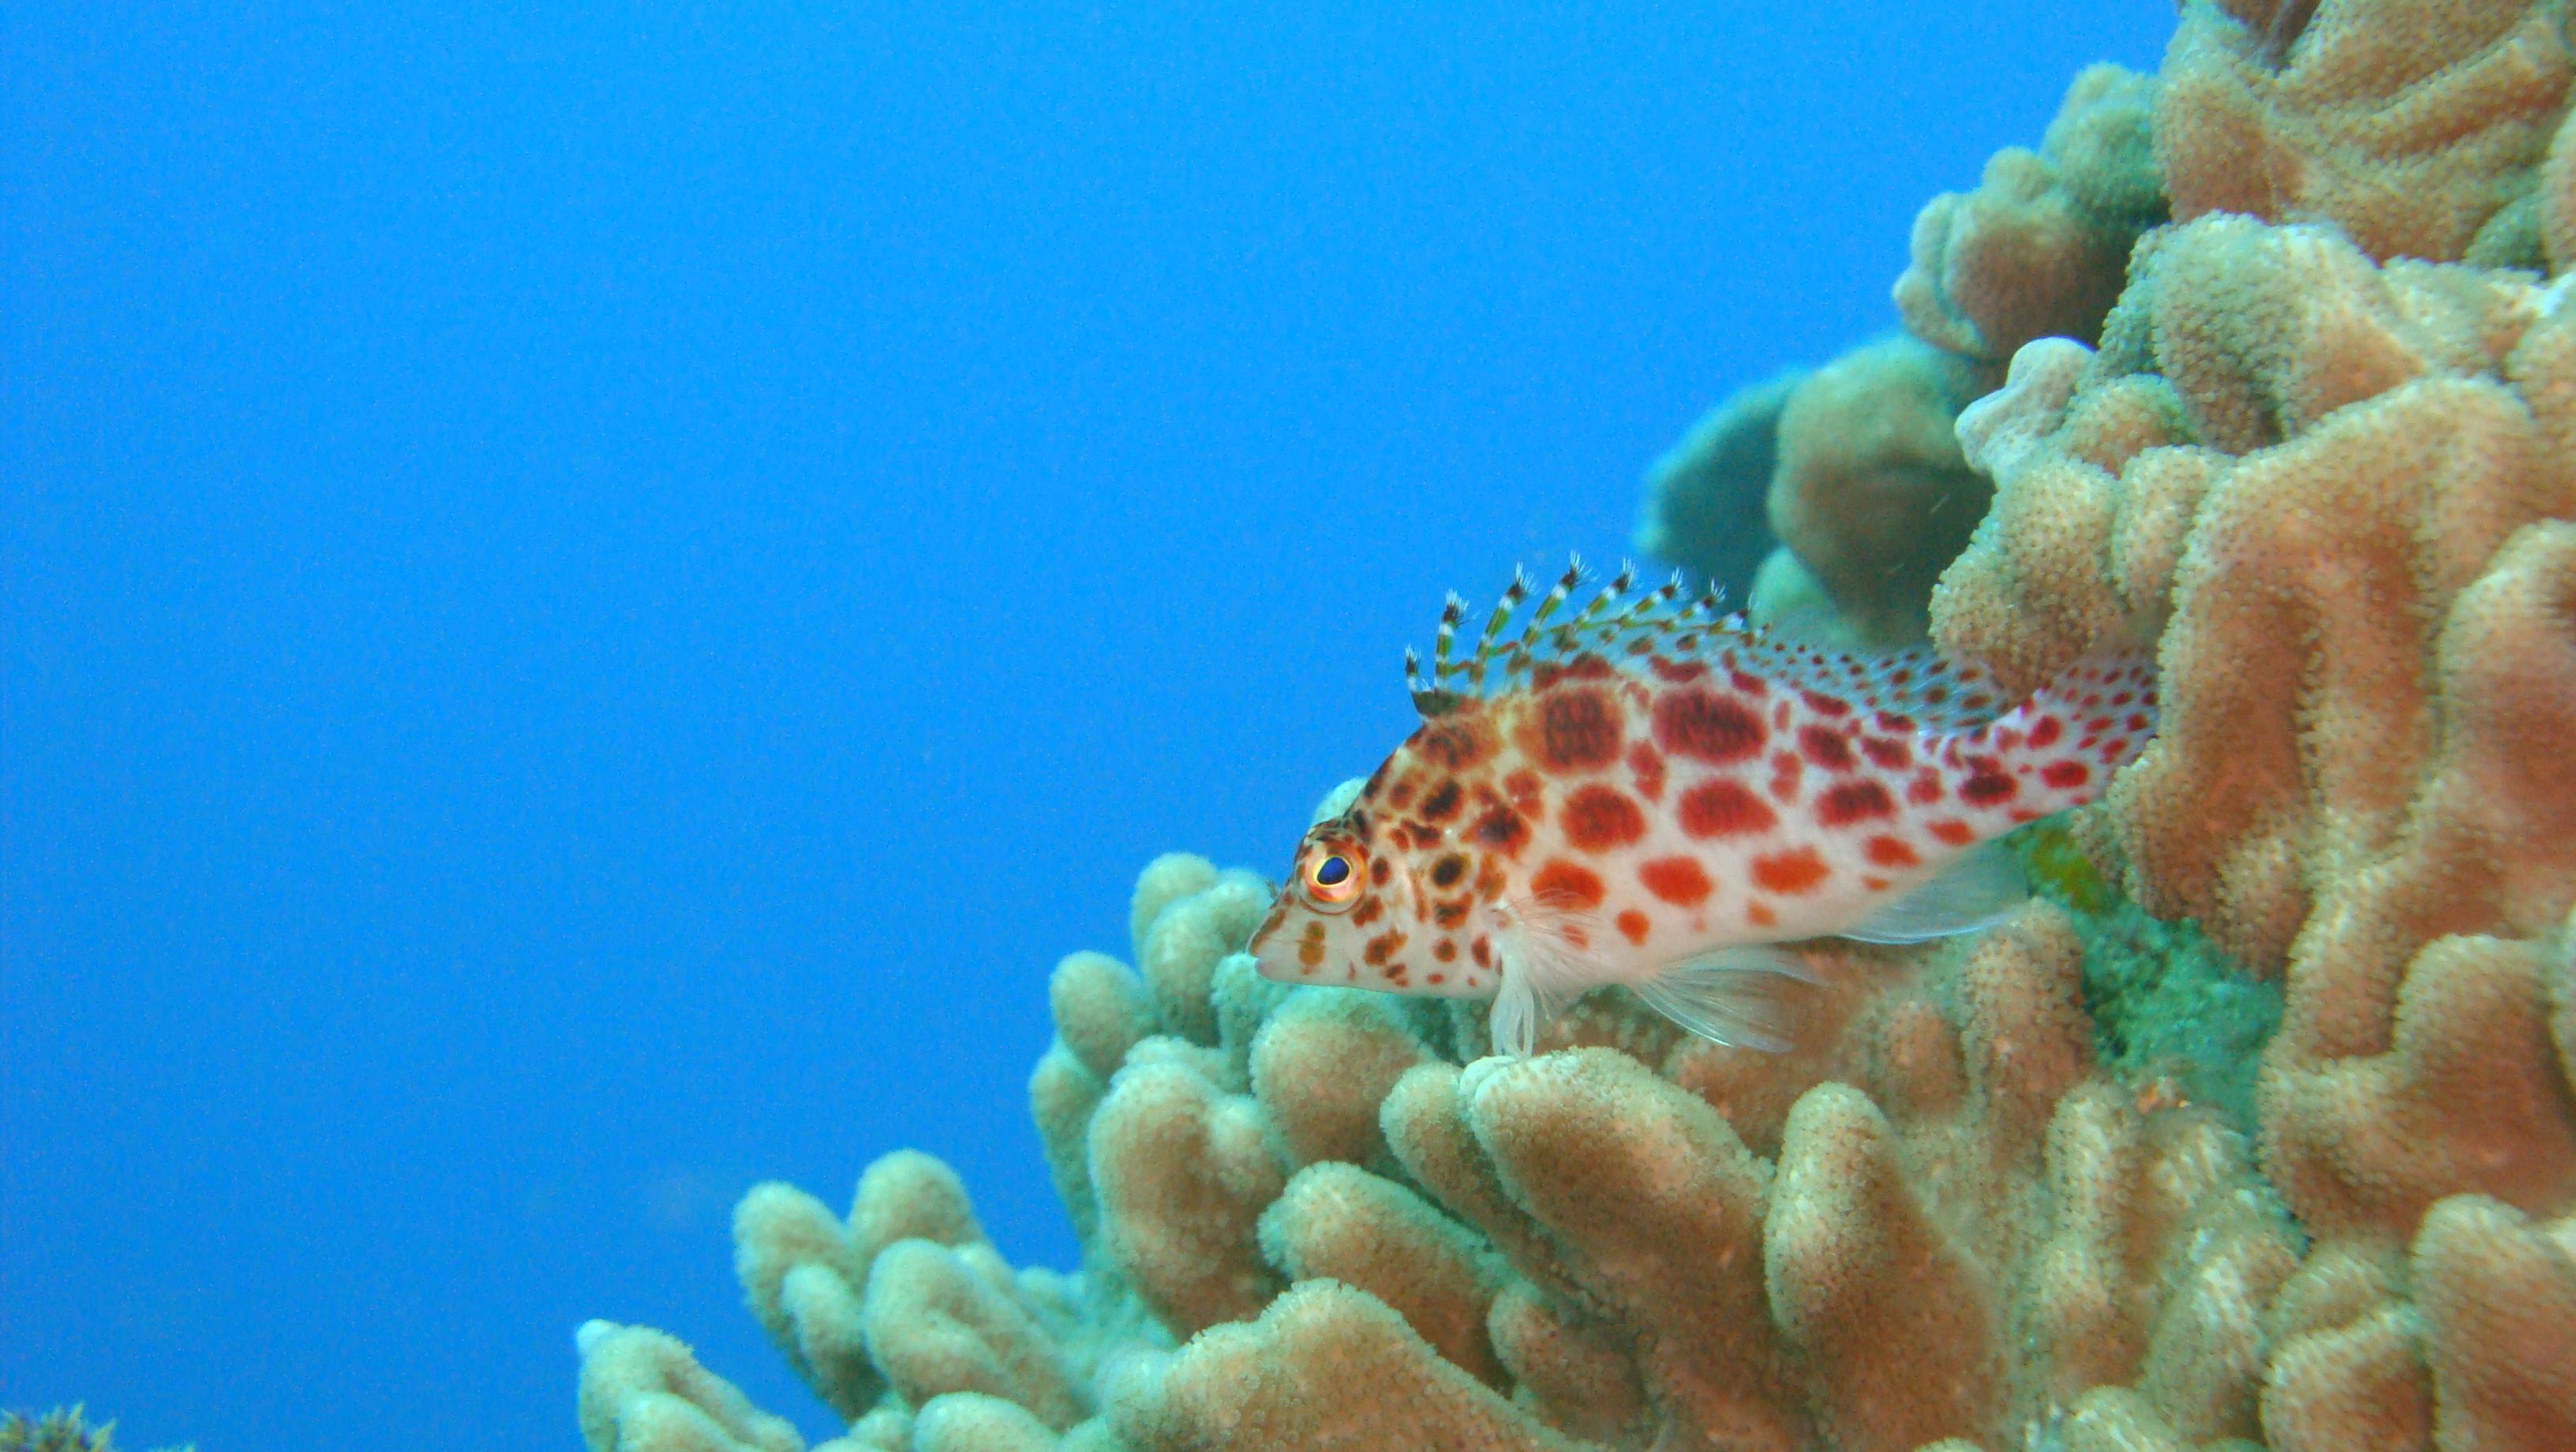Fish: (1246, 554, 2169, 1074)
